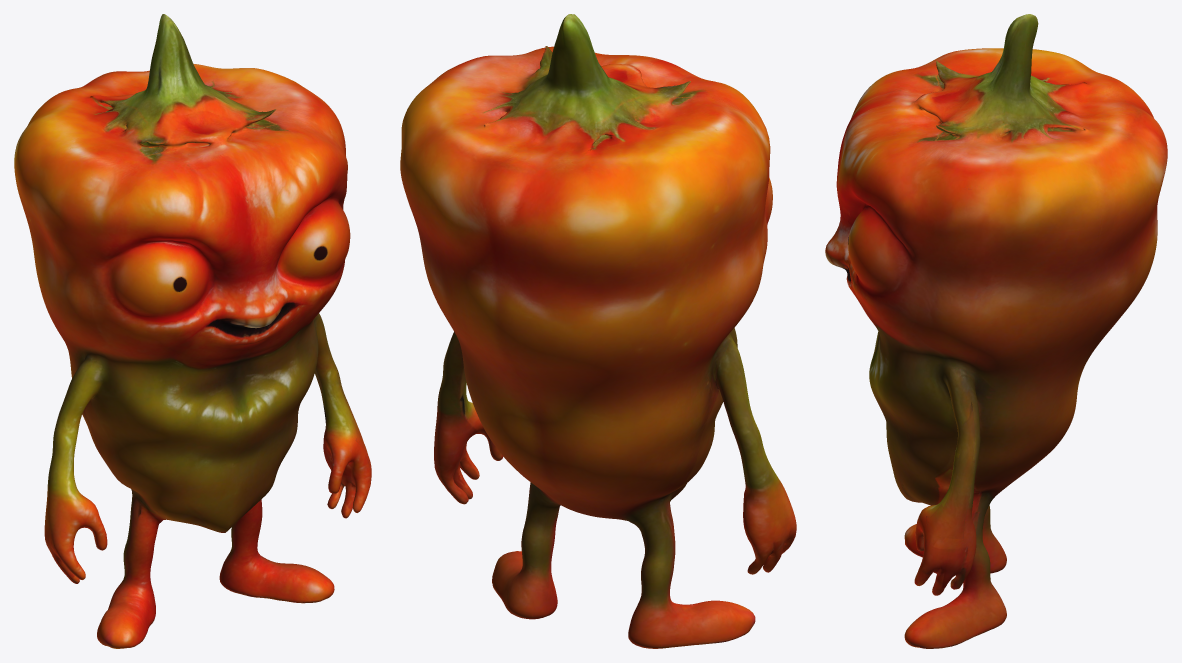
File: oops.glb
3 renders of one model, left to right at view 1: azimuth 30°, elevation 25°; view 2: azimuth 150°, elevation 25°; view 3: azimuth 270°, elevation 25°, orthographic. The views are drawn at different scales.
Parts seen in each view (by area): view 1: Mesh_0; view 2: Mesh_0; view 3: Mesh_0.
Boxes of the visible parts, left/top/right/bottom form: Mesh_0: left=14, top=14, right=371, bottom=648; Mesh_0: left=400, top=14, right=796, bottom=648; Mesh_0: left=825, top=14, right=1167, bottom=648.
Size of the model in its own units: 1.13 by 1.94 by 1.04.
1 material, 1 textured.
